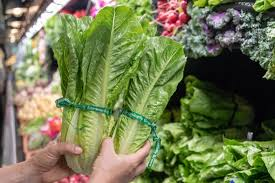Lettuce: (52, 13, 187, 183)
